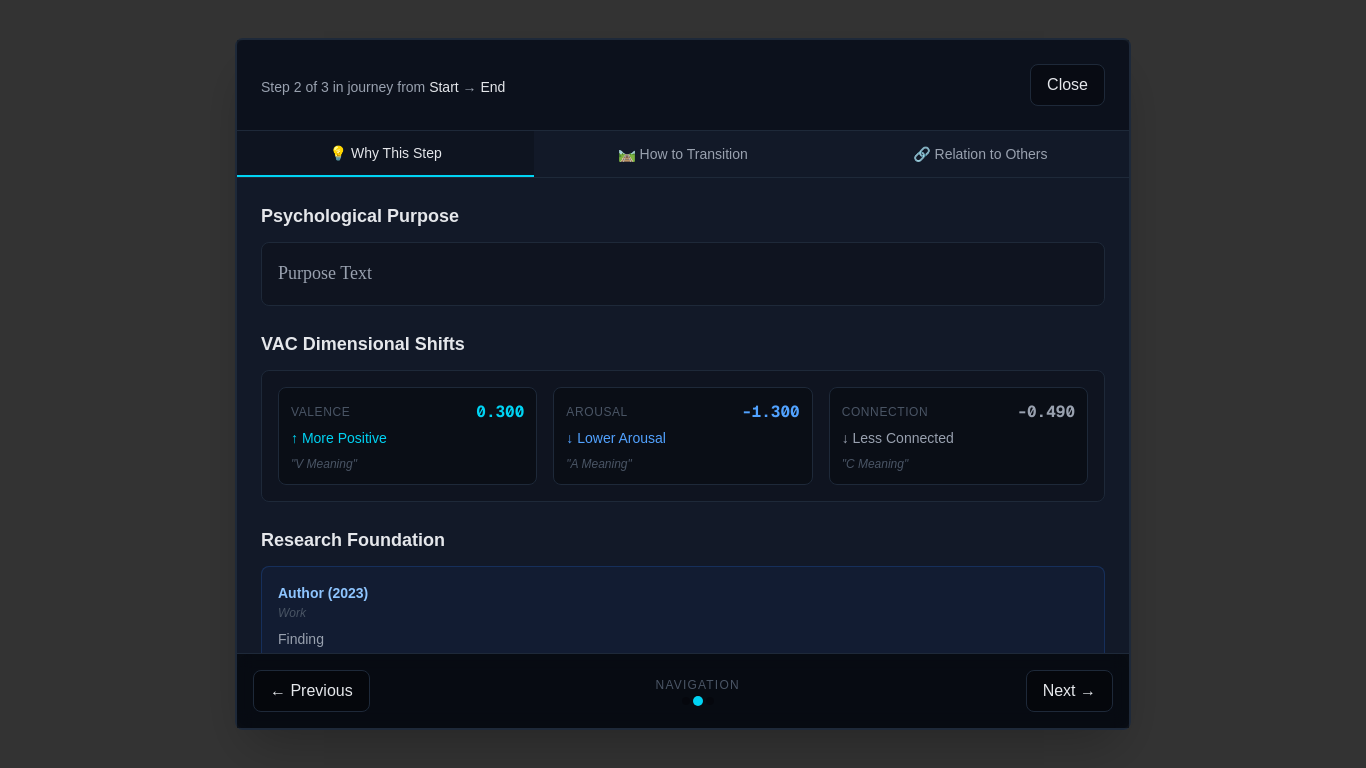
Test: WaypointDetailModal › Strategy Fetching & Rich Metadata › handles HTTP error in strategy fetch
Click the tab "🛤️ How to Transition": point(683, 154) [534,131,832,177]
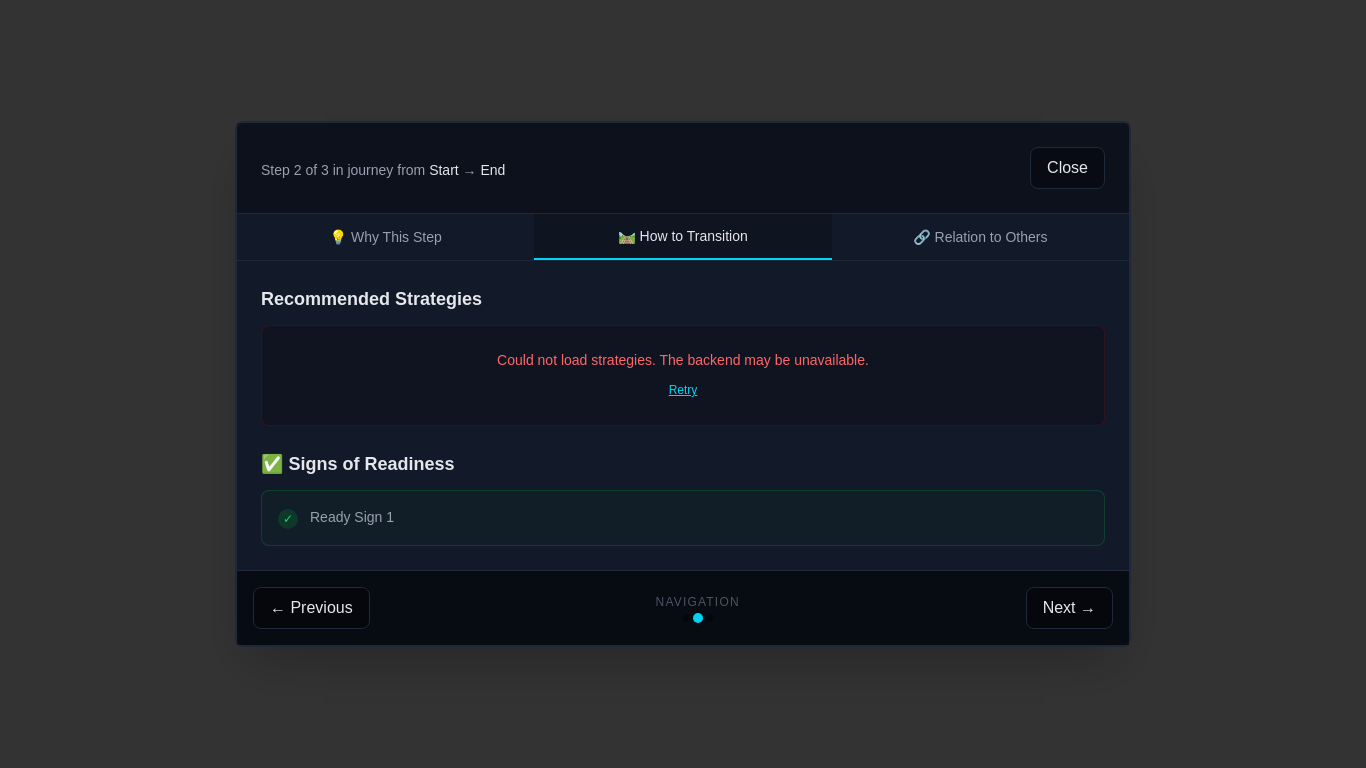
Check: the text "Could not load strategies. The backend may be unavailable." is shown, box [497,352,869,368]
